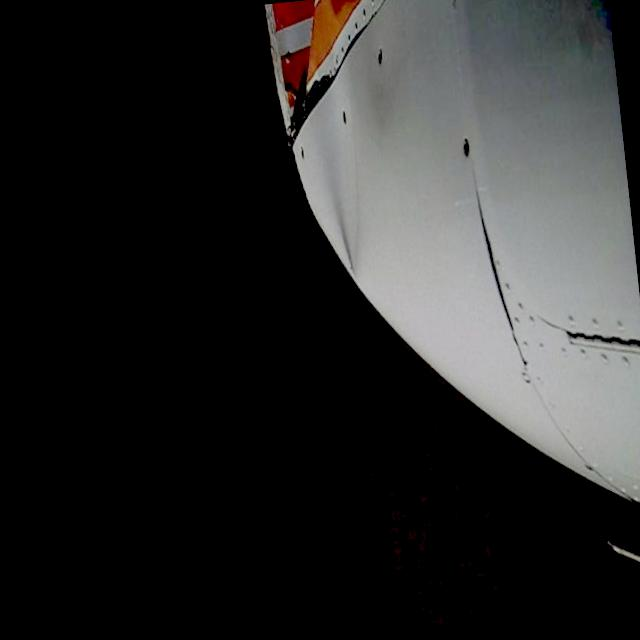dent: (256, 0, 375, 292)
